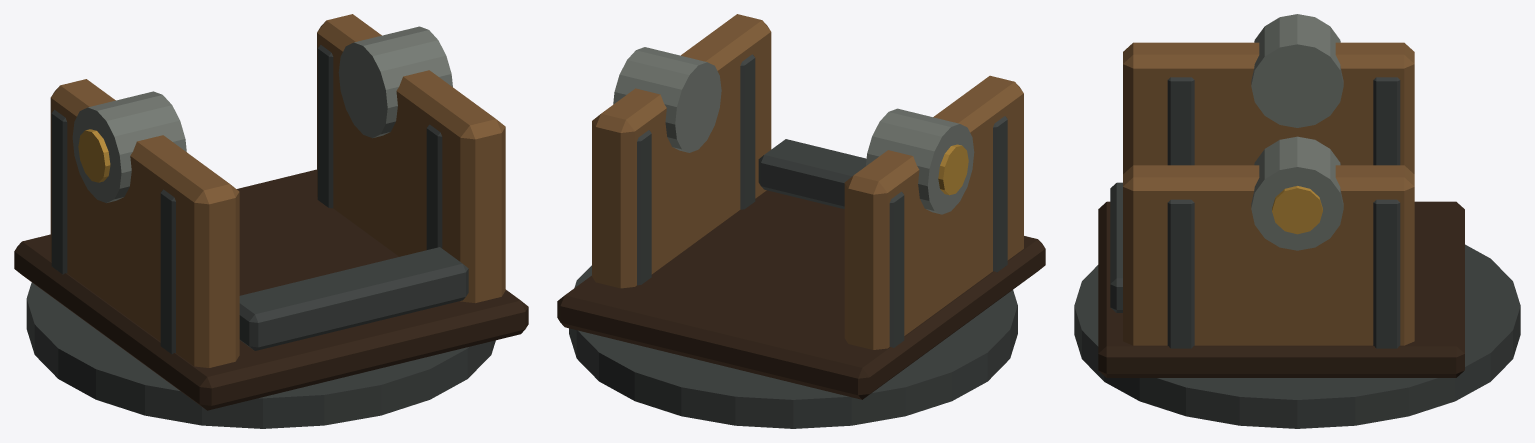
The model's file is mount.glb.
3 views of the same model, side by side, from view 1: azimuth 30°, elevation 25°; view 2: azimuth 150°, elevation 25°; view 3: azimuth 270°, elevation 25° (orthographic). The views are drawn at different scales.
Parts seen in each view (by area): view 1: Timber, Metal; view 2: Timber, Metal; view 3: Timber, Metal.
Part boxes in pixels (left/top/right/bottom): Timber: left=14, top=14, right=528, bottom=410; Metal: left=26, top=26, right=495, bottom=428; Timber: left=557, top=14, right=1045, bottom=399; Metal: left=569, top=47, right=1017, bottom=428; Timber: left=1098, top=42, right=1464, bottom=377; Metal: left=1074, top=14, right=1520, bottom=428.
Bounding box in the file's own units: 2.8 × 1.69 × 2.8.
